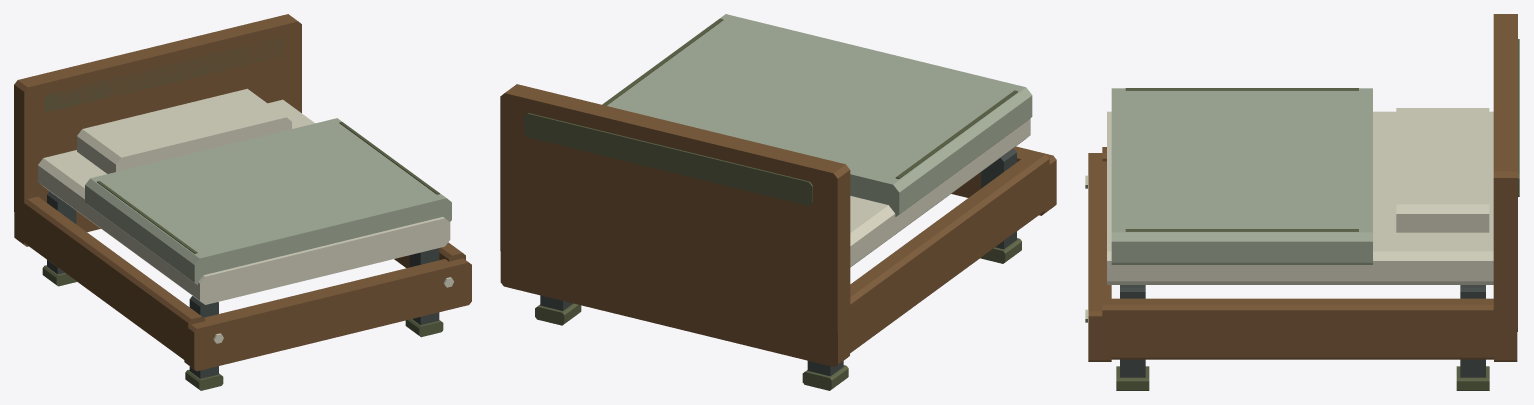
The model's file is Bed.gltf.
3 views of the same model, side by side, from view 1: azimuth 30°, elevation 25°; view 2: azimuth 150°, elevation 25°; view 3: azimuth 270°, elevation 25° (orthographic). The views are drawn at different scales.
Visible parts, largest first — view 1: Bed; view 2: Bed; view 3: Bed.
Part boxes in pixels (left/top/right/bottom): Bed: left=14, top=14, right=471, bottom=390; Bed: left=500, top=14, right=1056, bottom=390; Bed: left=1085, top=14, right=1519, bottom=390.
Bounding box in the file's own units: 0.82 × 0.54 × 0.932.
